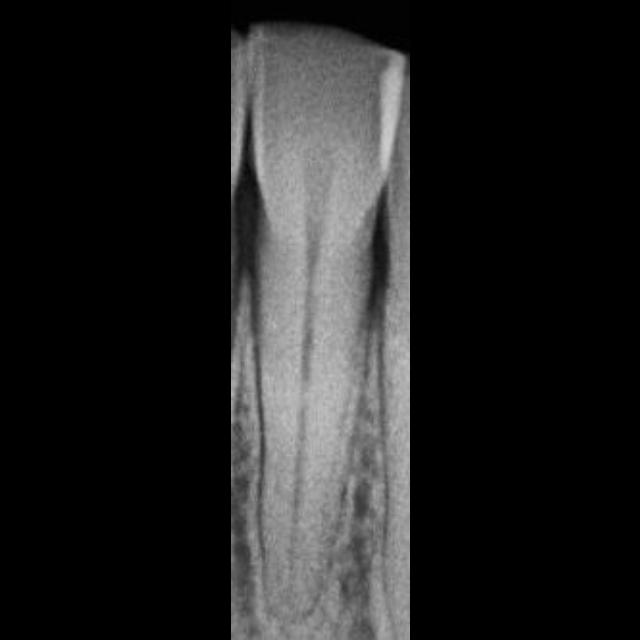tooth: (248, 25, 408, 623)
